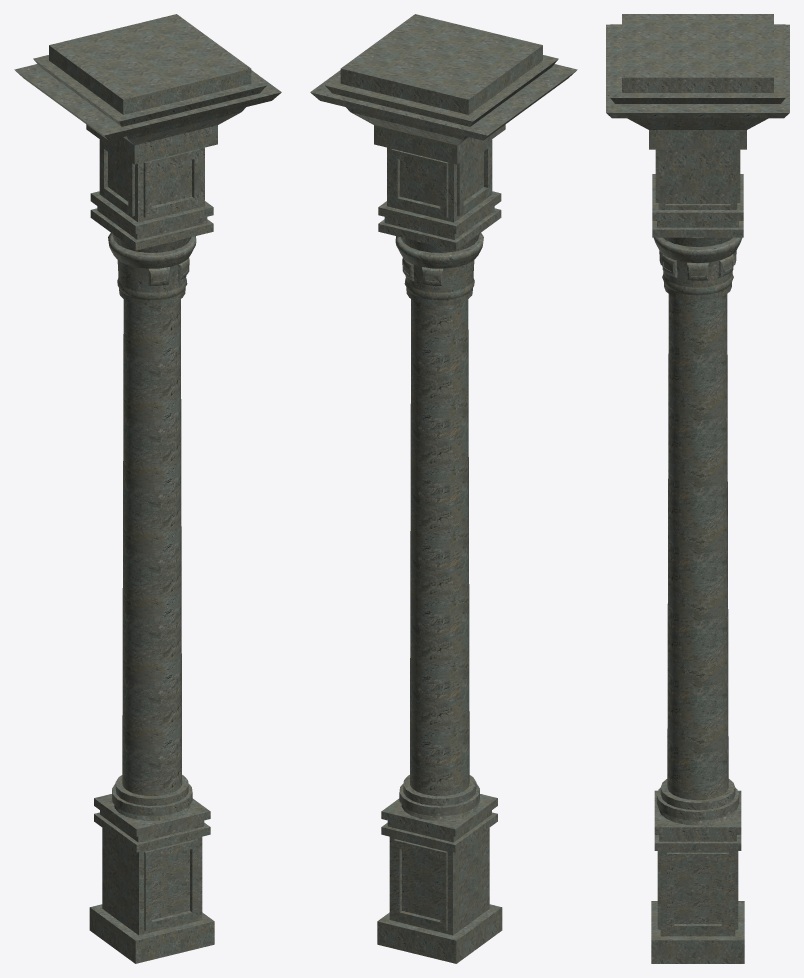
Rendered from fbxColumn.fbx.
3 renders of one model, left to right at view 1: azimuth 30°, elevation 25°; view 2: azimuth 150°, elevation 25°; view 3: azimuth 270°, elevation 25°, orthographic.
Parts seen in each view (by area): view 1: column1; view 2: column1; view 3: column1.
Boxes of the visible parts, x1,y1,x2,y2 form: column1: (14, 14, 281, 963); column1: (310, 14, 577, 963); column1: (606, 14, 789, 963).
Bounding box in the file's own units: 1.17 × 5.55 × 1.03.
1 material, 1 textured.
